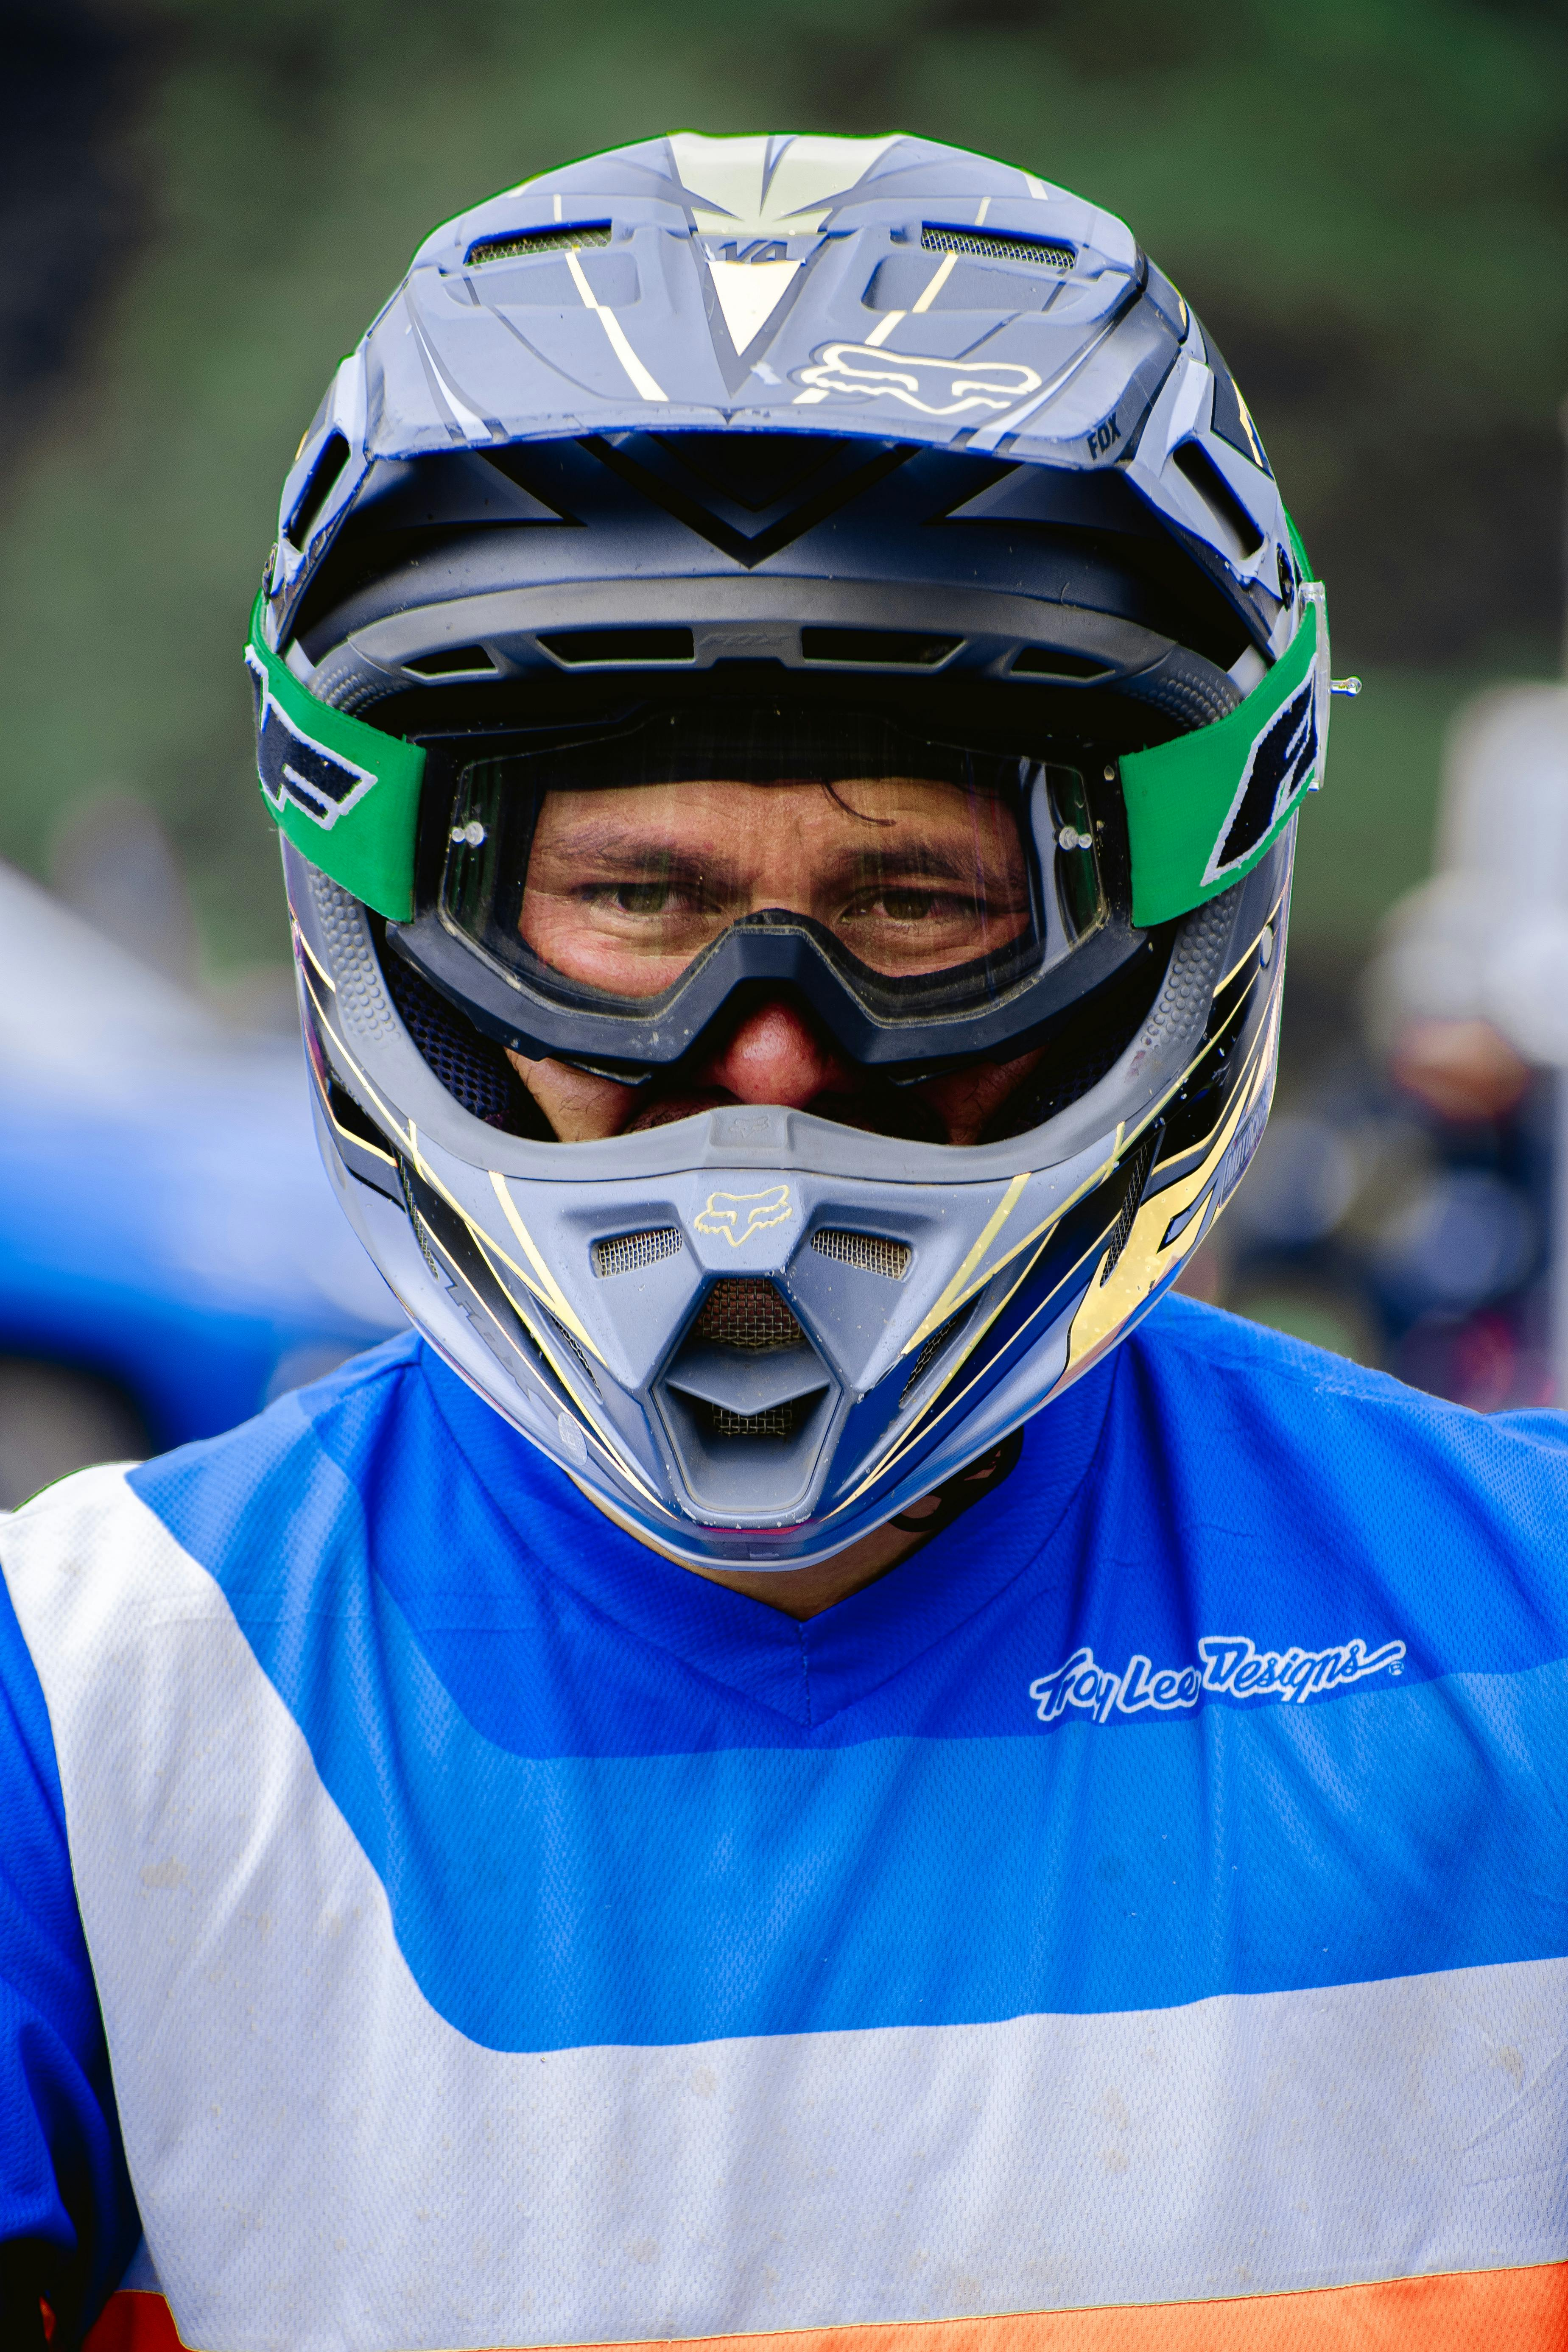capacete: (234, 126, 1333, 1571)
